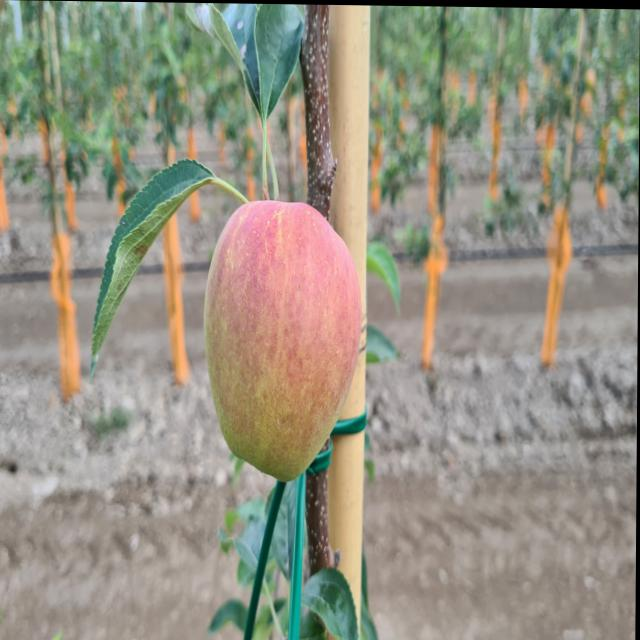Apple: (205, 200, 362, 481)
